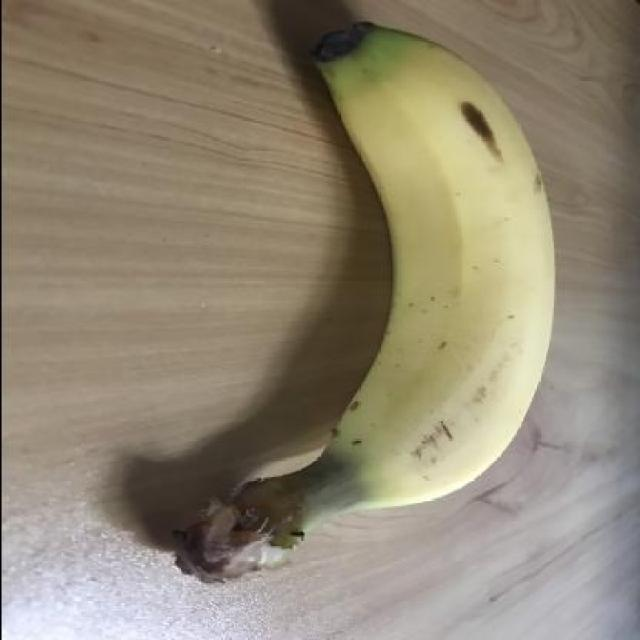Banana: (166, 22, 560, 586)
